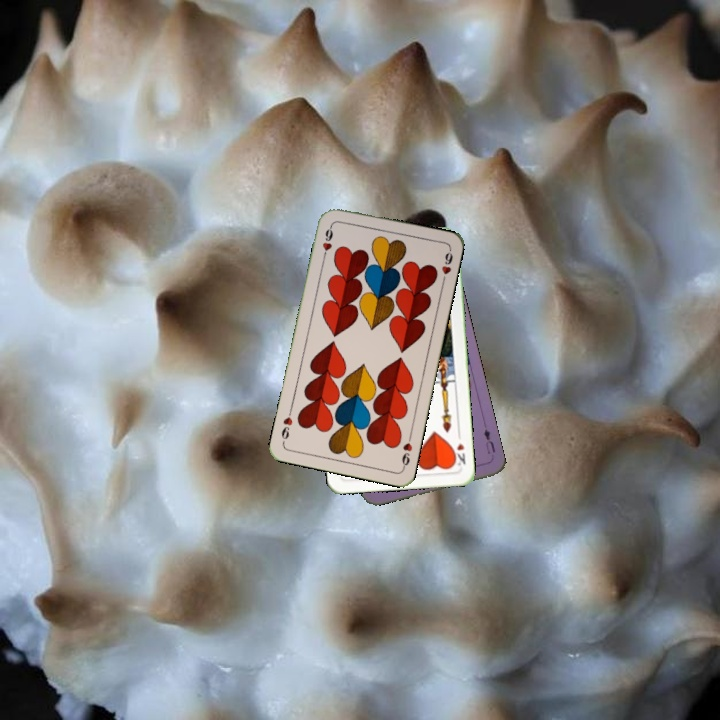EU: (480, 425, 498, 456)
H9: (398, 431, 415, 471), (318, 221, 335, 261)
HK: (449, 439, 468, 468)
